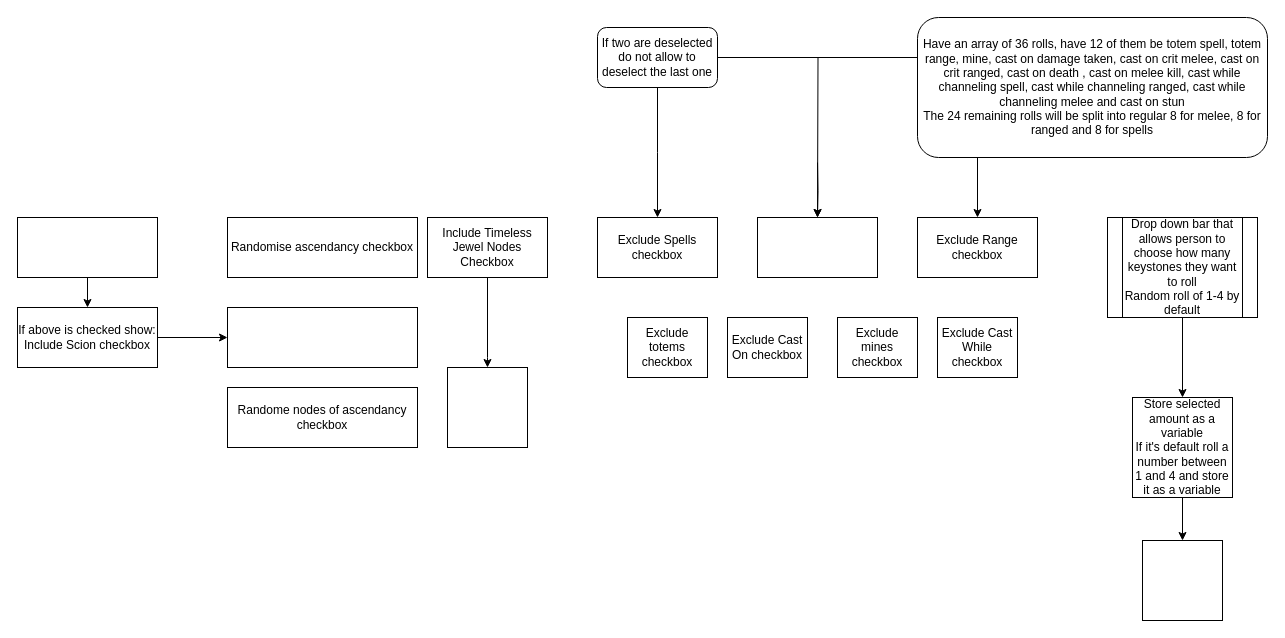
Image size: 1285x638. Some labels were removed from this diagram. Here are the shapes that lost their labels. From the top down, the centre of each, then its label:
At (x=87, y=247): "Randomise class checkbox".
At (x=817, y=247): "Exclude Melee checkbox".
At (x=322, y=337): "If above and left is checked show: Randomise scion ascendancies checkbox".
At (x=487, y=407): "Add 15 nodes to the array".
At (x=1182, y=580): "Up to 28 keystones".
